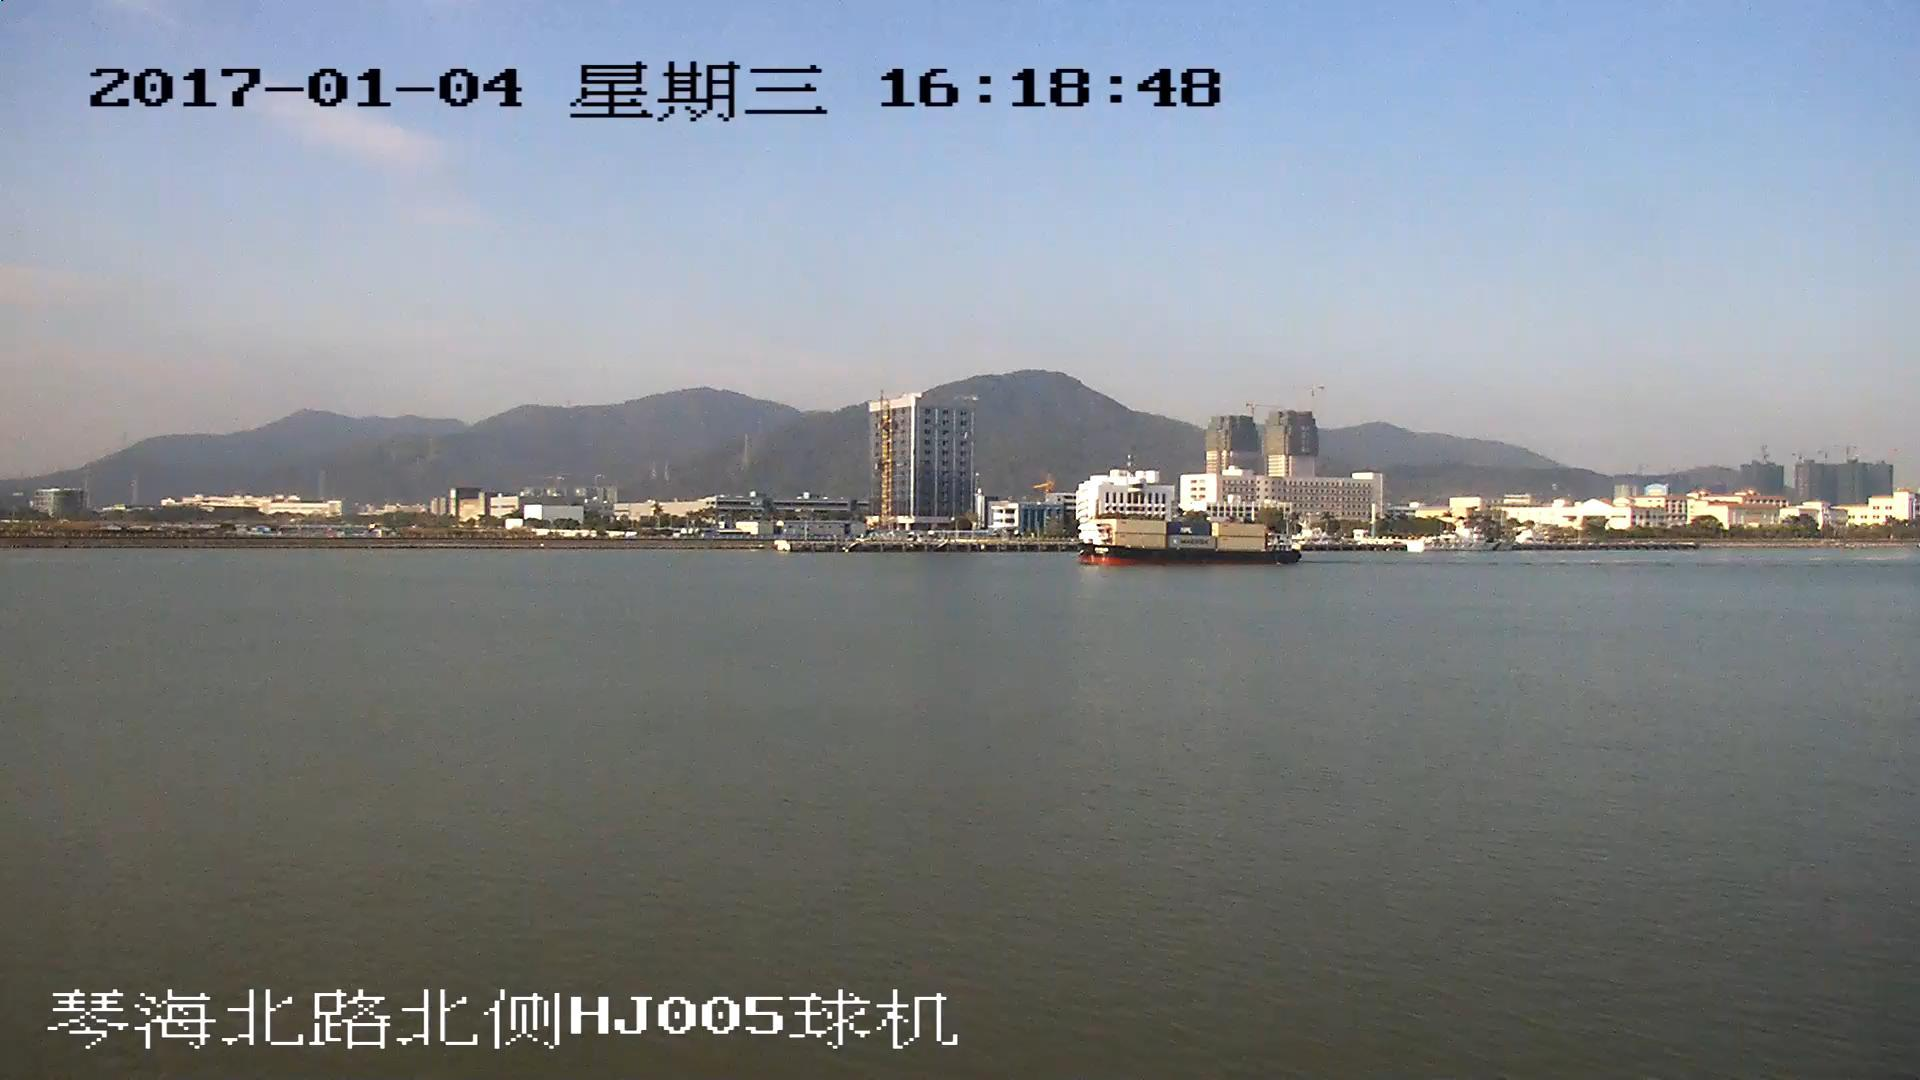Ship: (1083, 520, 1302, 567)
